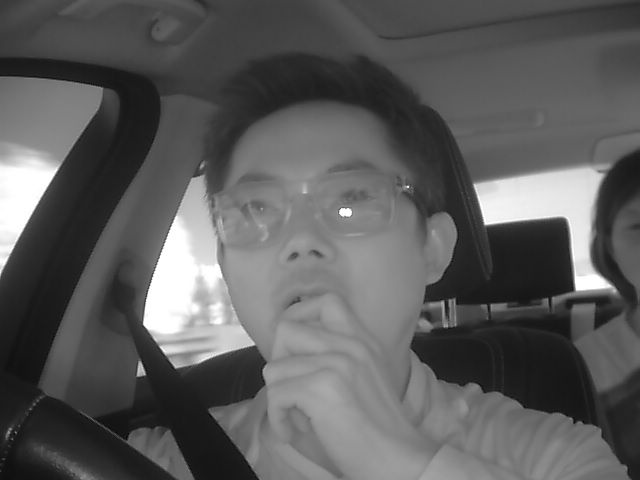hand: (259, 289, 421, 471)
